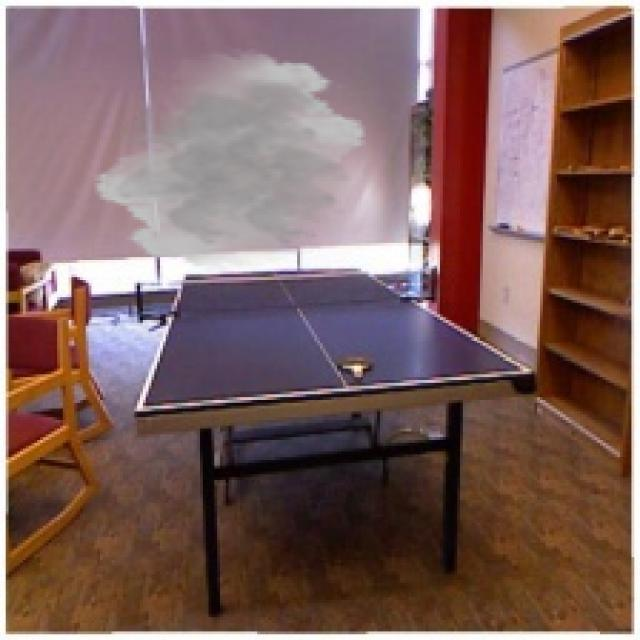Smoke: (92, 48, 368, 272)
